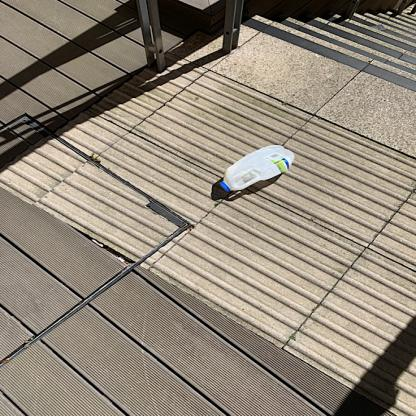trash: (210, 146, 295, 193)
